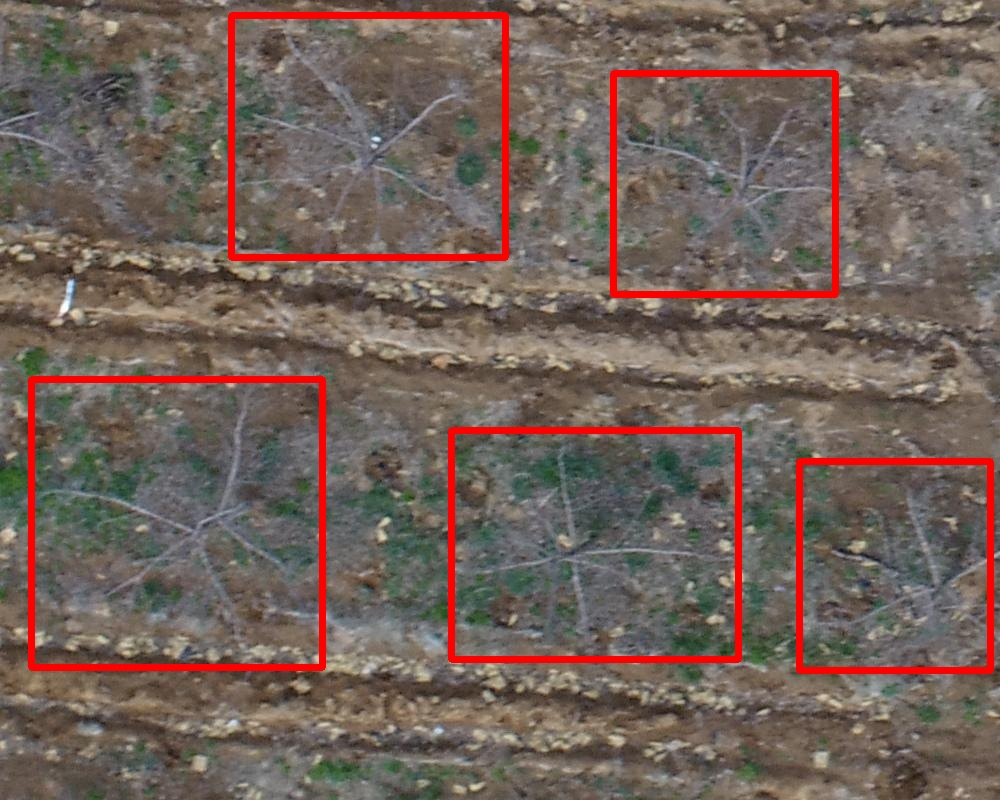apple: (31, 379, 322, 667), (231, 15, 505, 257), (451, 430, 738, 659), (613, 73, 835, 294), (799, 461, 990, 670)
